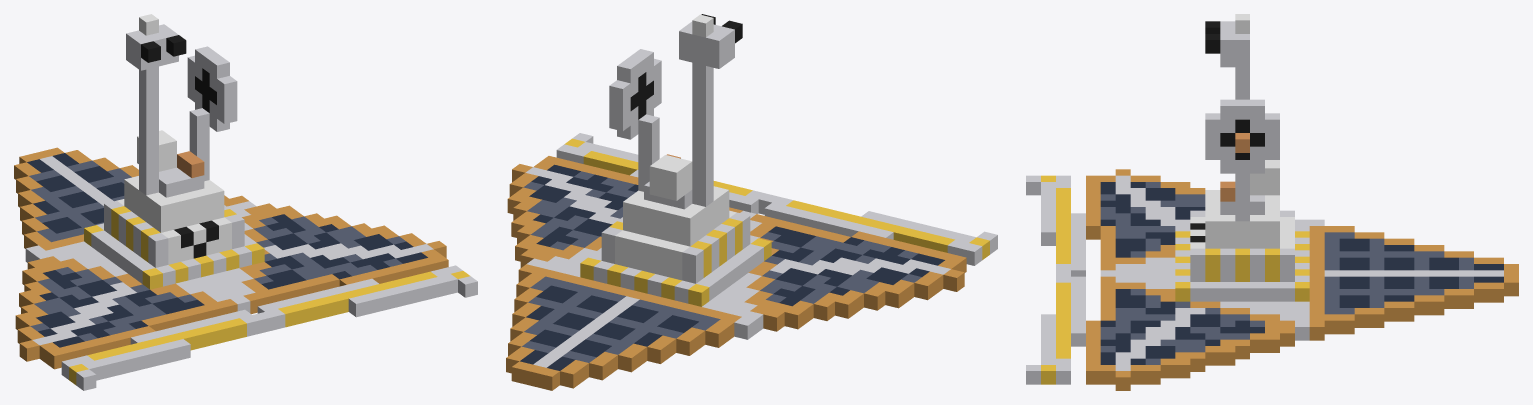
The model's file is Pathfinder Lander.glb.
3 renders of one model, left to right at view 1: azimuth 30°, elevation 25°; view 2: azimuth 150°, elevation 25°; view 3: azimuth 270°, elevation 25°, orthographic. The views are drawn at different scales.
Parts seen in each view (by area): view 1: Pathfinder_Voxel; view 2: Pathfinder_Voxel; view 3: Pathfinder_Voxel.
Part boxes in pixels (x1,y1,x2,y2): Pathfinder_Voxel: (14, 14, 477, 390); Pathfinder_Voxel: (506, 14, 997, 390); Pathfinder_Voxel: (1026, 14, 1518, 390).
Size of the model in its own units: 5.46 by 3.14 by 5.46.
